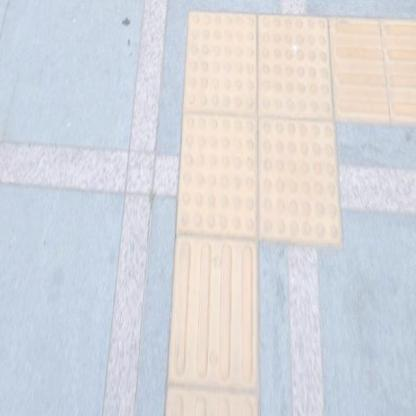podotacti: (147, 0, 373, 280), (164, 242, 266, 415), (342, 10, 416, 127)
